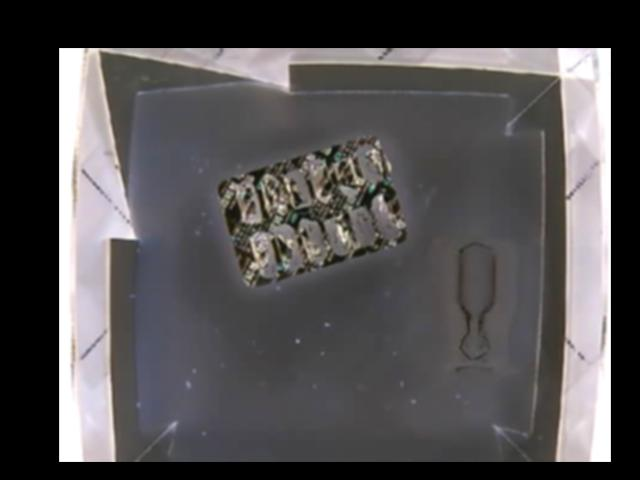Bottle: (443, 239, 508, 377)
Medicine: (215, 135, 408, 286)
